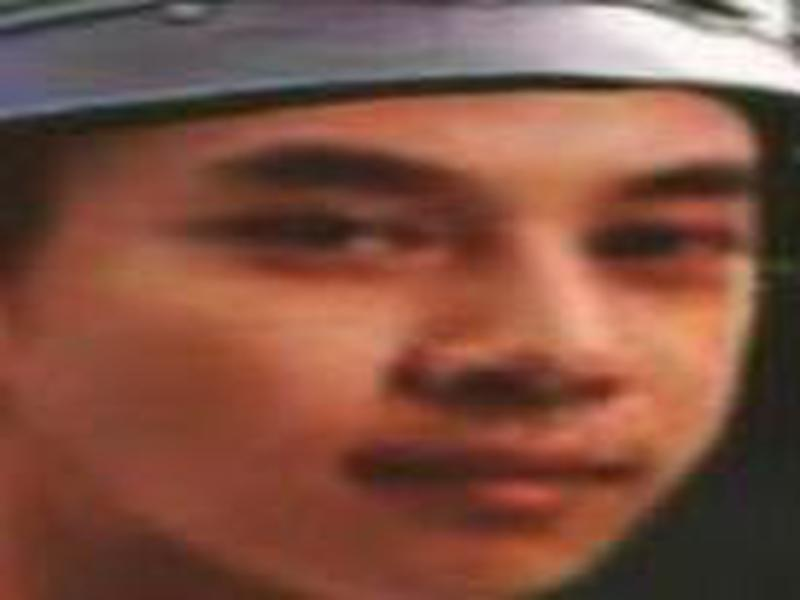without_mask: (7, 82, 762, 600)
